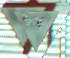Give way: (0, 1, 59, 54)
